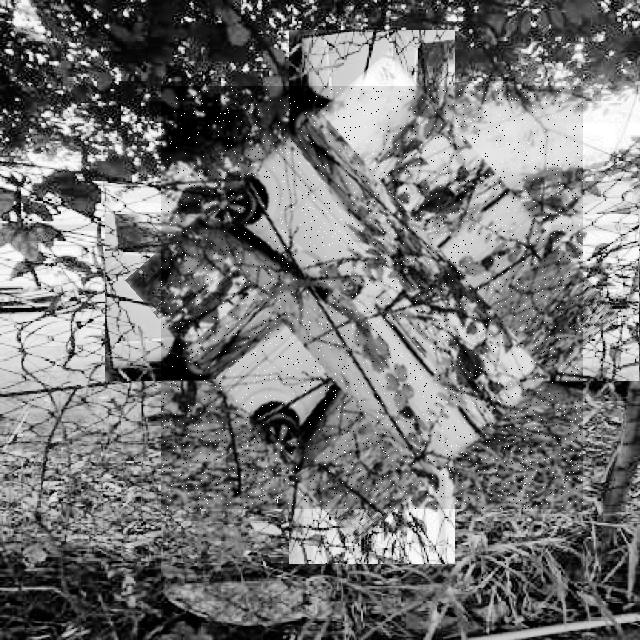anomaly-fence: (161, 86, 583, 509)
